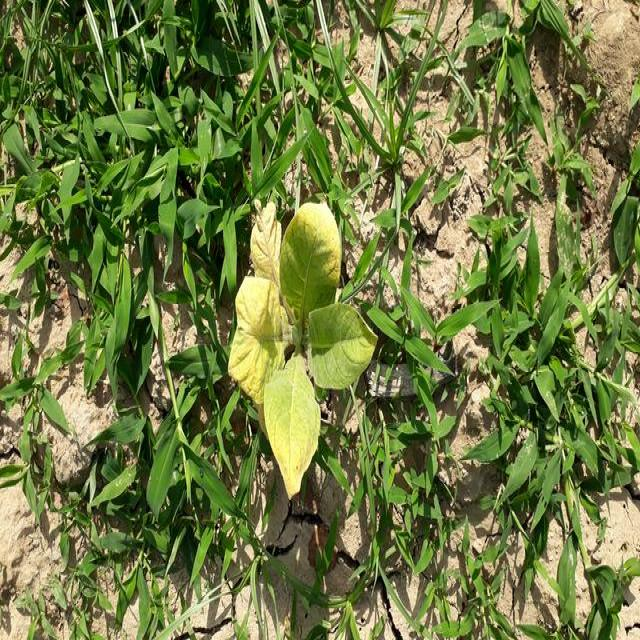crop: (235, 199, 378, 487)
